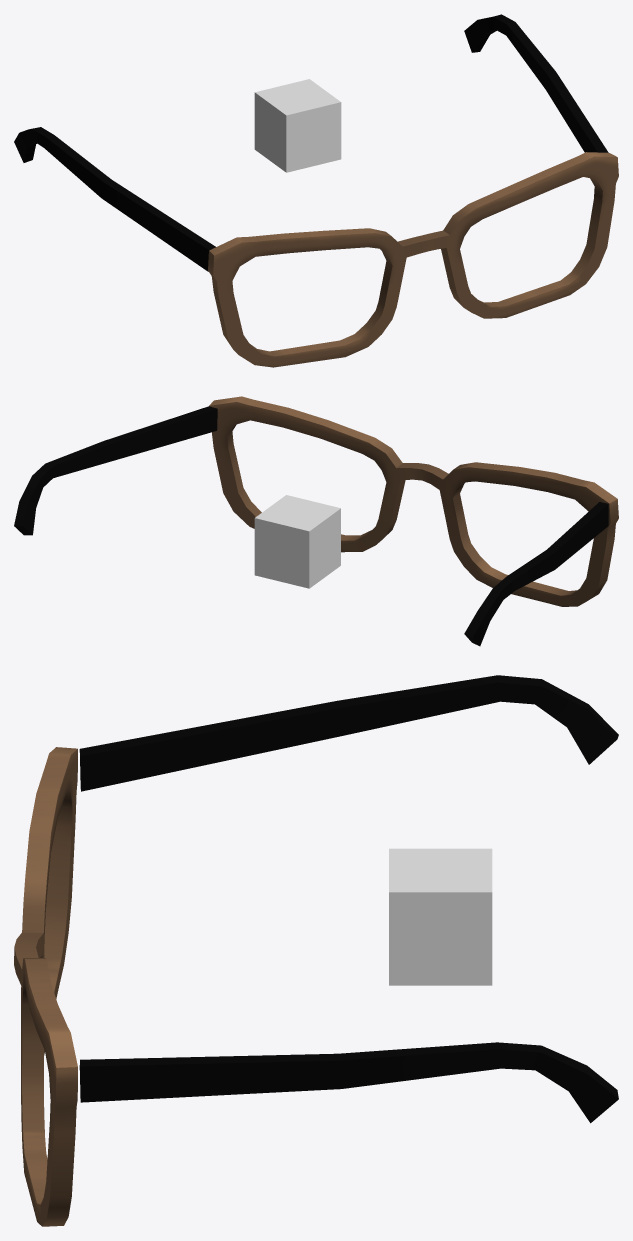
File: boy_glasses3.FBX
3 renders of one model, top to bottom at view 1: azimuth 30°, elevation 25°; view 2: azimuth 150°, elevation 25°; view 3: azimuth 270°, elevation 25°, orthographic. The views are drawn at different scales.
Parts seen in each view (by area): view 1: boy_glasses12, faceSpawn; view 2: boy_glasses12, faceSpawn; view 3: boy_glasses12, faceSpawn.
Boxes of the visible parts, x1,y1,x2,y2 form: boy_glasses12: (14, 14, 618, 367); faceSpawn: (254, 79, 341, 172); boy_glasses12: (14, 396, 618, 646); faceSpawn: (254, 495, 340, 588); boy_glasses12: (14, 675, 618, 1226); faceSpawn: (389, 848, 492, 985).
Size of the model in its own units: 42.97 by 13.26 by 29.35.
